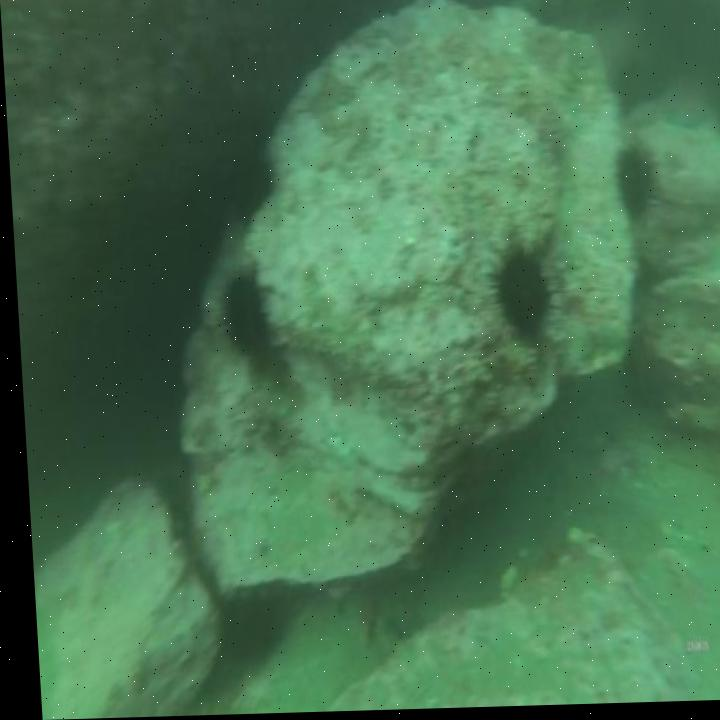echinus: (485, 247, 552, 350), (213, 264, 275, 372), (606, 143, 662, 226)
